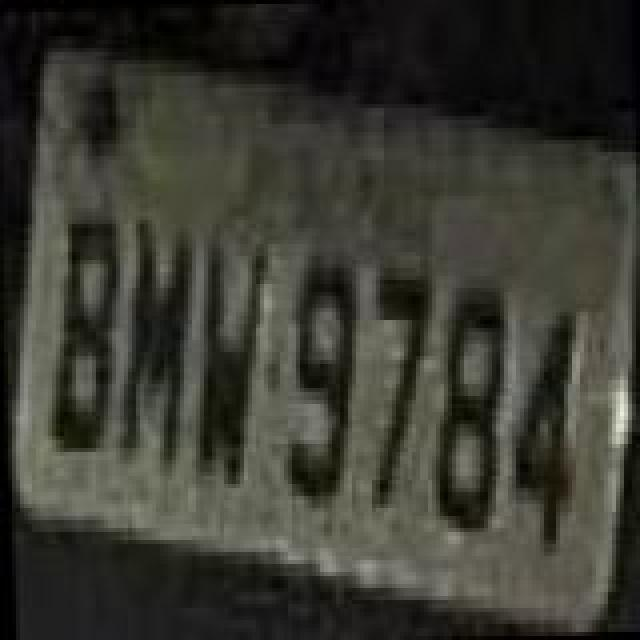4: (500, 294, 584, 554)
7: (354, 260, 438, 520)
8: (424, 284, 516, 544)
9: (274, 250, 366, 510)
B: (38, 208, 126, 464)
M: (106, 210, 202, 482)
W: (182, 228, 274, 484)
